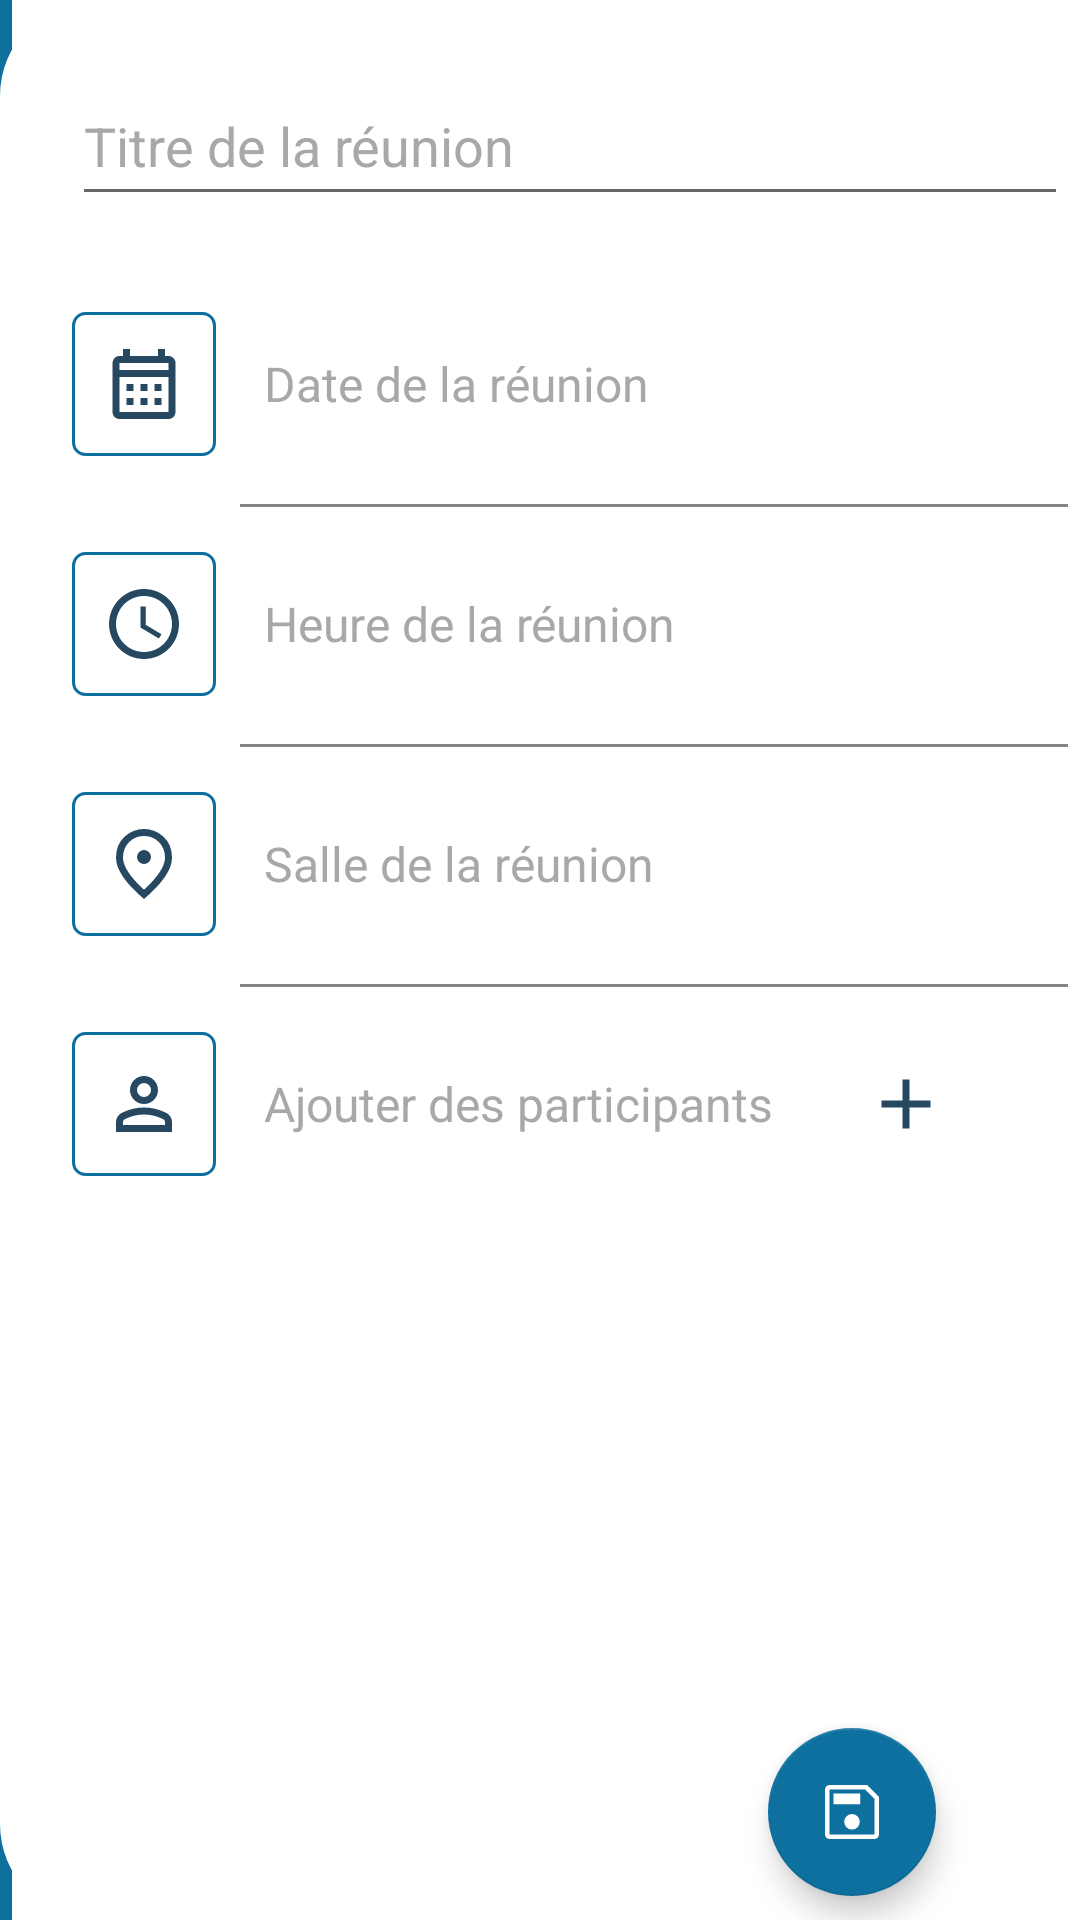

Icon click points for this 1080*1920 phone screenshot, format [x,y]:
location: [144,864]
meeting date: [144,384]
meeting time: [144,624]
person single: [144,1104]
save: [852,1812]
